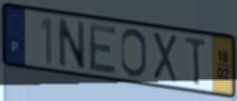1: (40, 16, 53, 67)
E: (88, 22, 119, 75)
N: (56, 16, 87, 71)
O: (119, 27, 148, 80)
T: (183, 34, 208, 87)
X: (150, 29, 179, 86)
